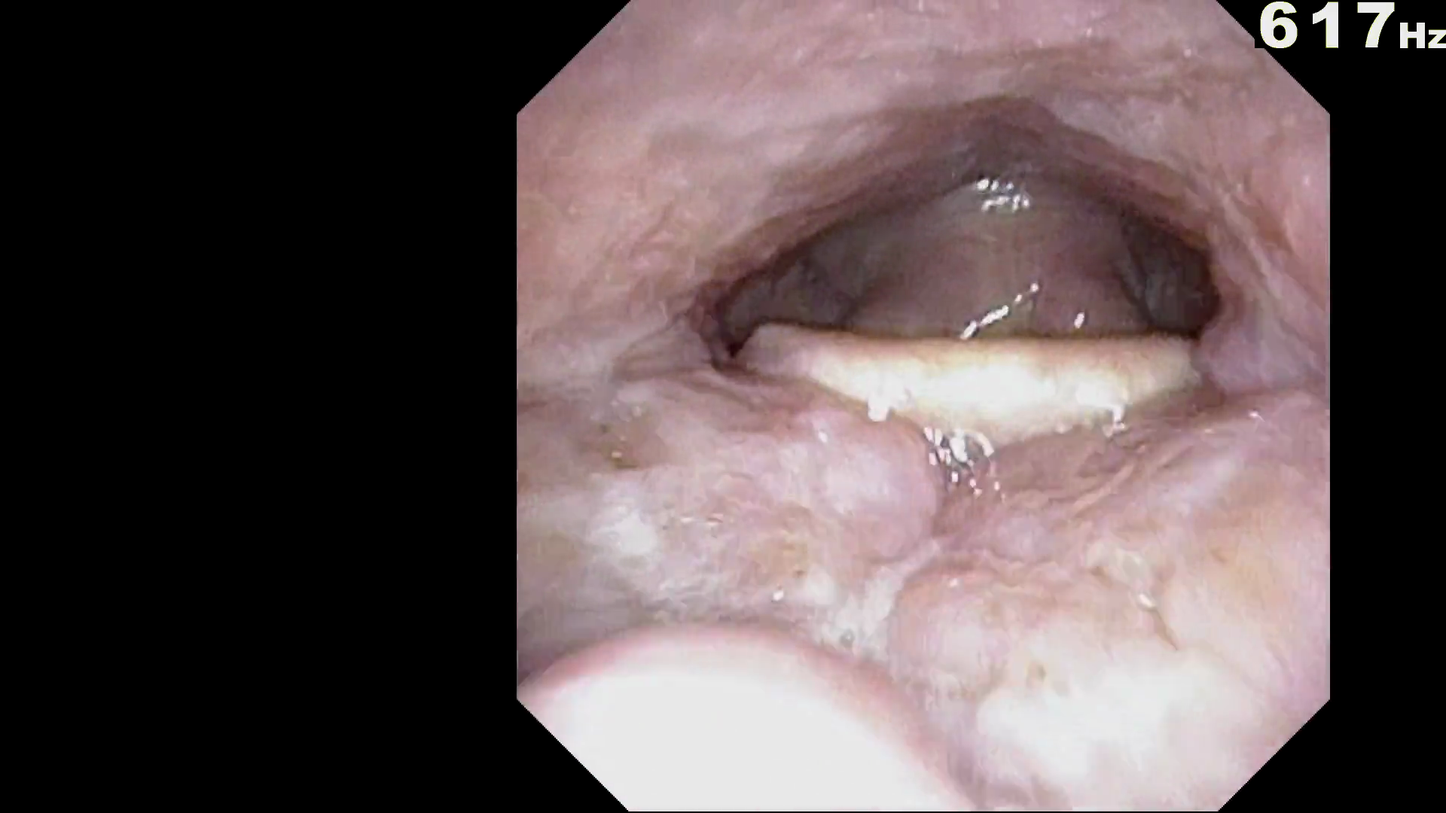epiglottis: (768, 296, 1191, 438)
